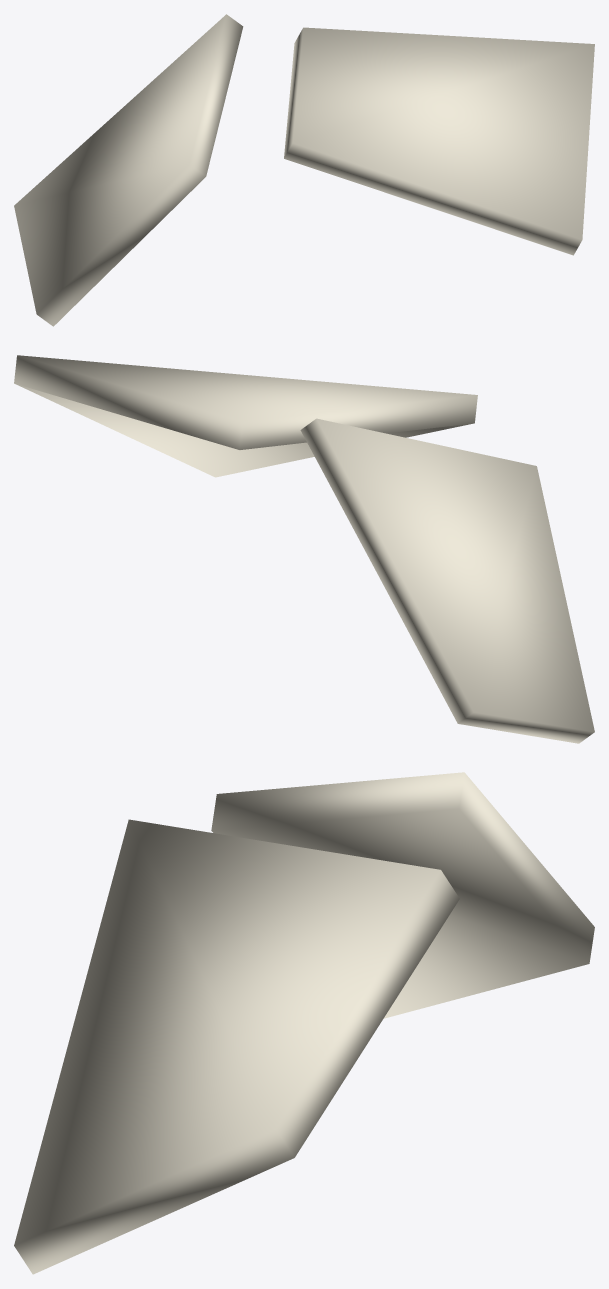
3 views of the same model, one above another, from view 1: azimuth 30°, elevation 25°; view 2: azimuth 150°, elevation 25°; view 3: azimuth 270°, elevation 25° (orthographic). The views are drawn at different scales.
Parts seen in each view (by area): view 1: ZA_7c4e7850f392cd3e; view 2: ZA_7c4e7850f392cd3e; view 3: ZA_7c4e7850f392cd3e.
Part boxes in pixels (left/top/right/bottom): ZA_7c4e7850f392cd3e: left=14, top=14, right=594, bottom=326; ZA_7c4e7850f392cd3e: left=14, top=355, right=594, bottom=743; ZA_7c4e7850f392cd3e: left=14, top=772, right=594, bottom=1274.
Bounding box in the file's own units: 0.0125 × 0.0056 × 0.00726.
